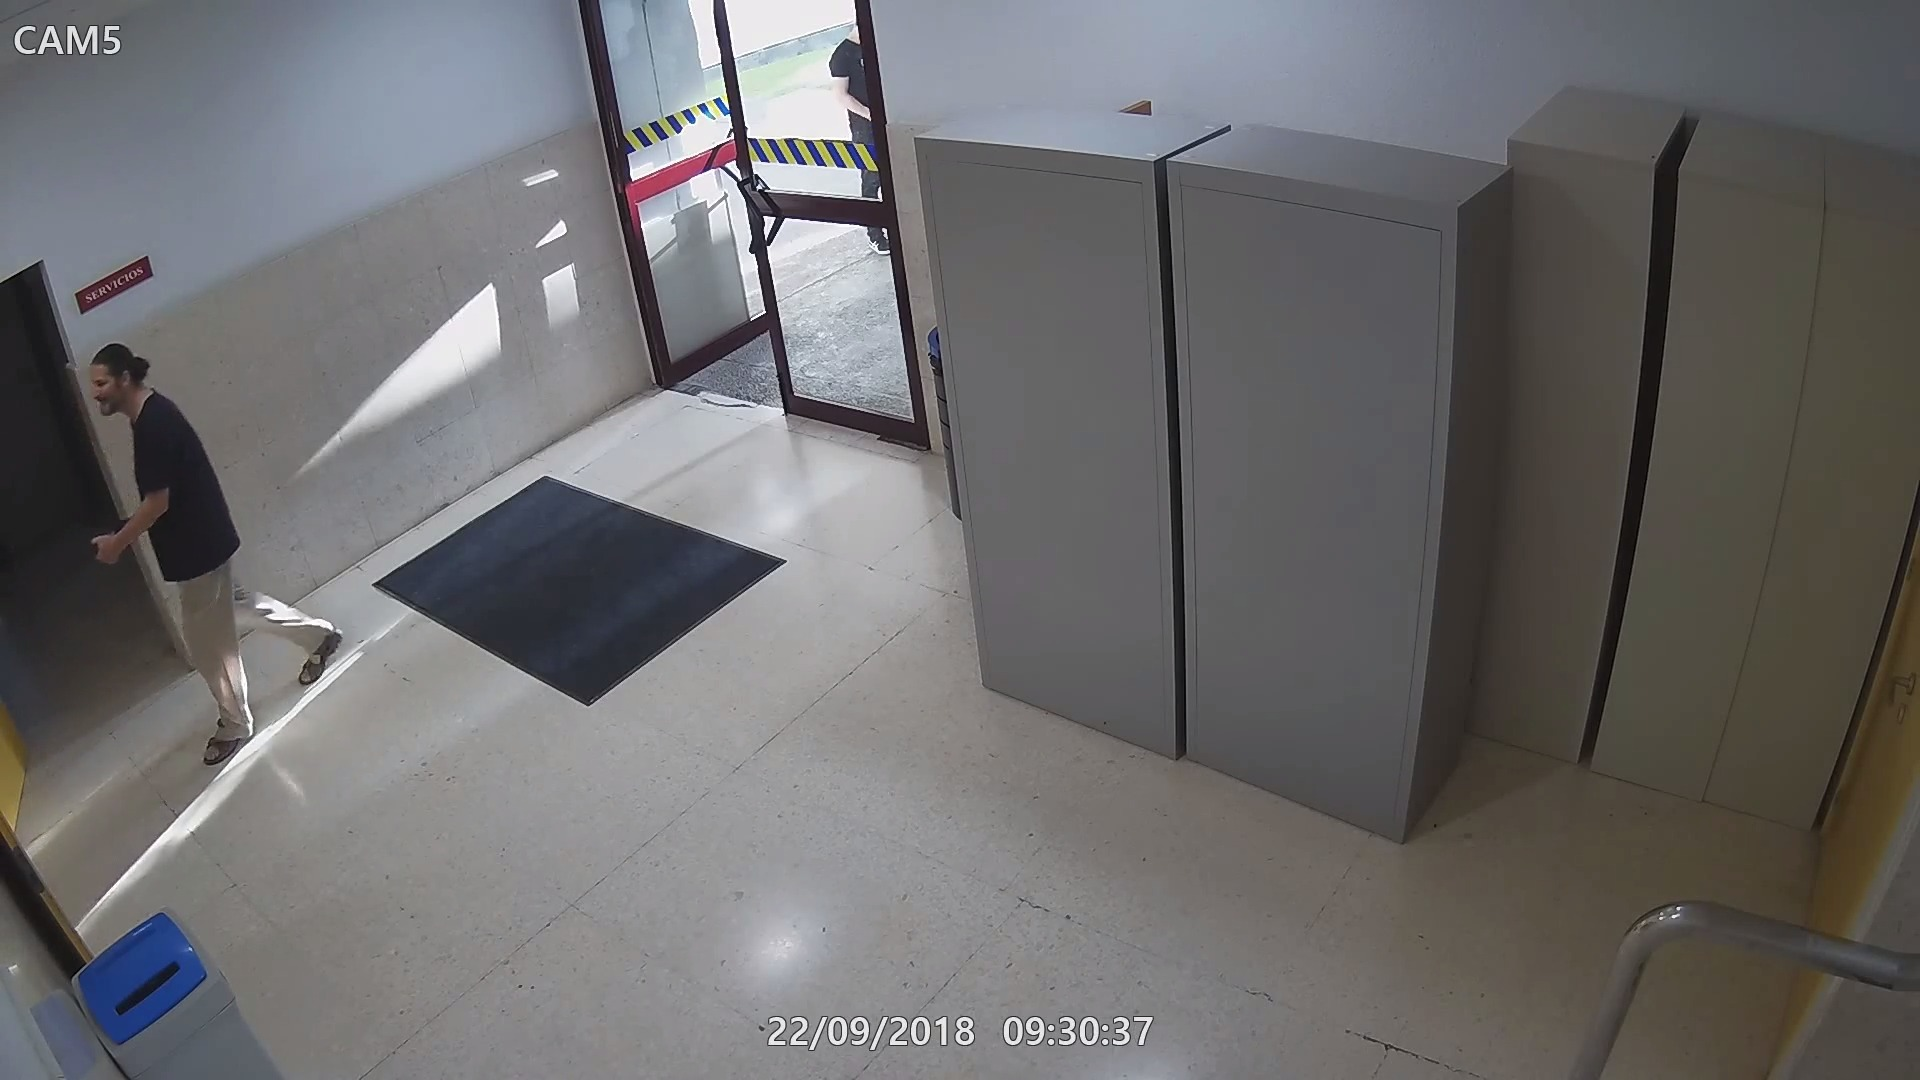Short_rifle: (71, 502, 152, 572)
